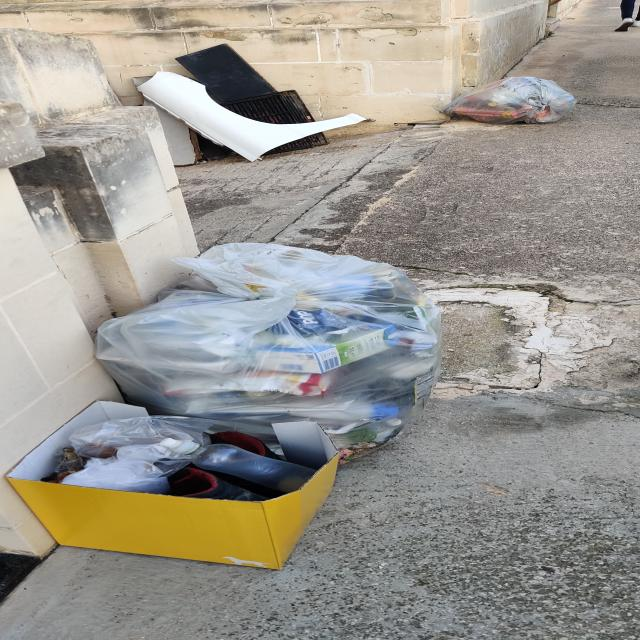Others Waste: (6, 398, 345, 572)
Recyclable Material -Grey Bags-: (96, 241, 449, 467), (443, 76, 578, 128)
